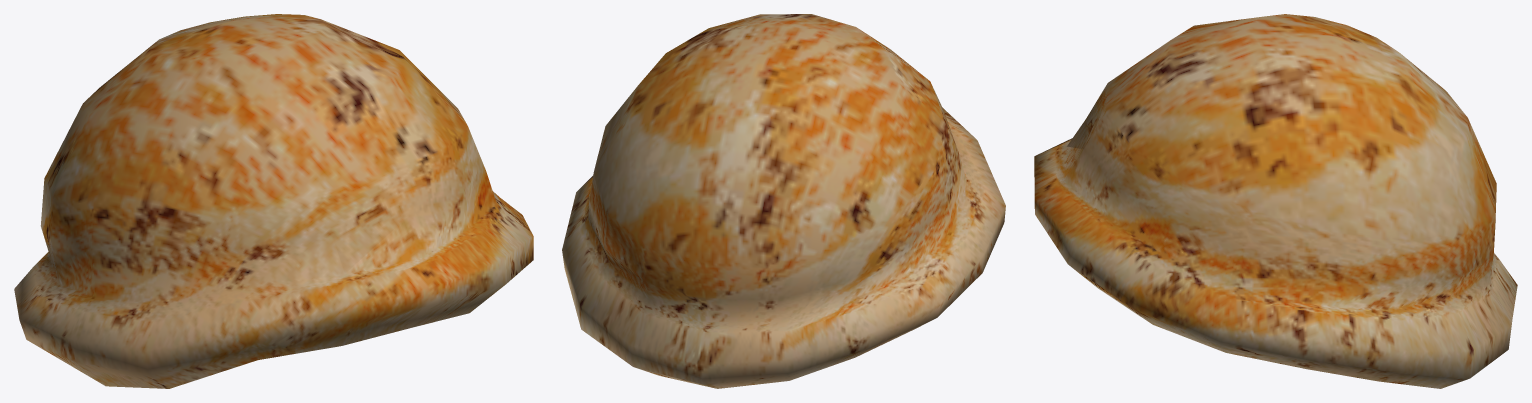
Rendered from orangeice.obj.
3 renders of one model, left to right at view 1: azimuth 30°, elevation 25°; view 2: azimuth 150°, elevation 25°; view 3: azimuth 270°, elevation 25°, orthographic. The views are drawn at different scales.
Visible parts, largest first — view 1: event_obj_kt3_chocolatesundae_root_000_ncl1_1.003; view 2: event_obj_kt3_chocolatesundae_root_000_ncl1_1.003; view 3: event_obj_kt3_chocolatesundae_root_000_ncl1_1.003.
Part boxes in pixels (<box>): event_obj_kt3_chocolatesundae_root_000_ncl1_1.003: <box>14,14,533,388</box>; event_obj_kt3_chocolatesundae_root_000_ncl1_1.003: <box>562,14,1005,388</box>; event_obj_kt3_chocolatesundae_root_000_ncl1_1.003: <box>1034,14,1517,388</box>.
Bounding box in the file's own units: 29.91 × 22.3 × 30.71.
